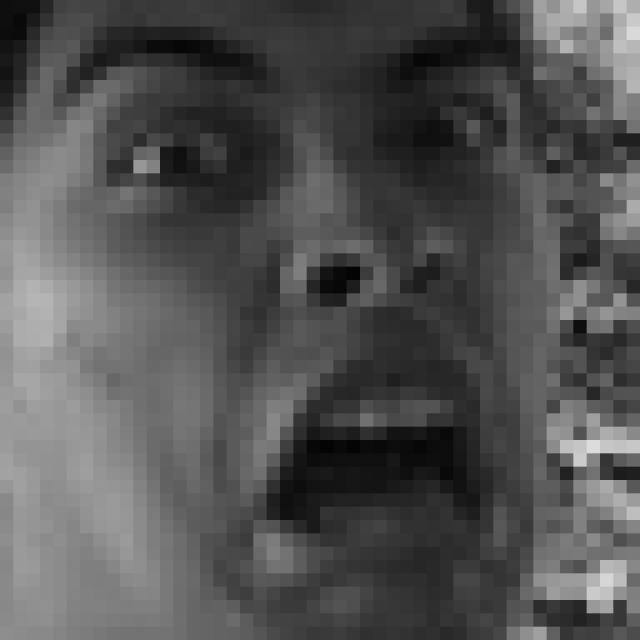disgust: (61, 22, 521, 601)
